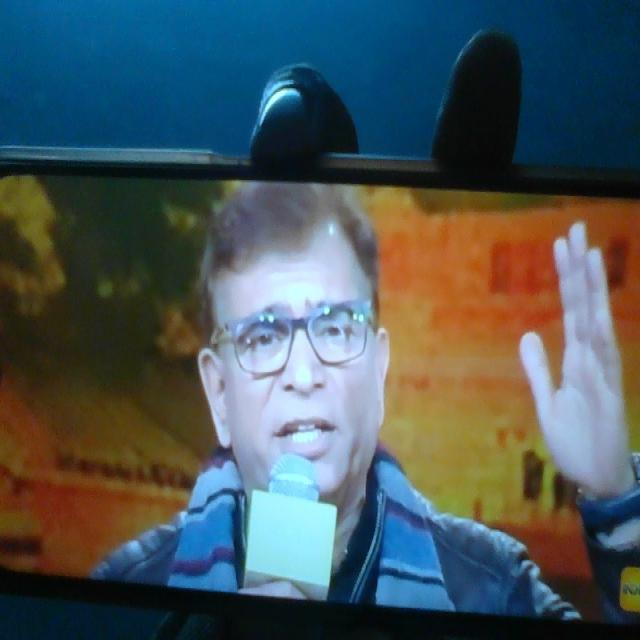fake: (204, 168, 390, 519)
